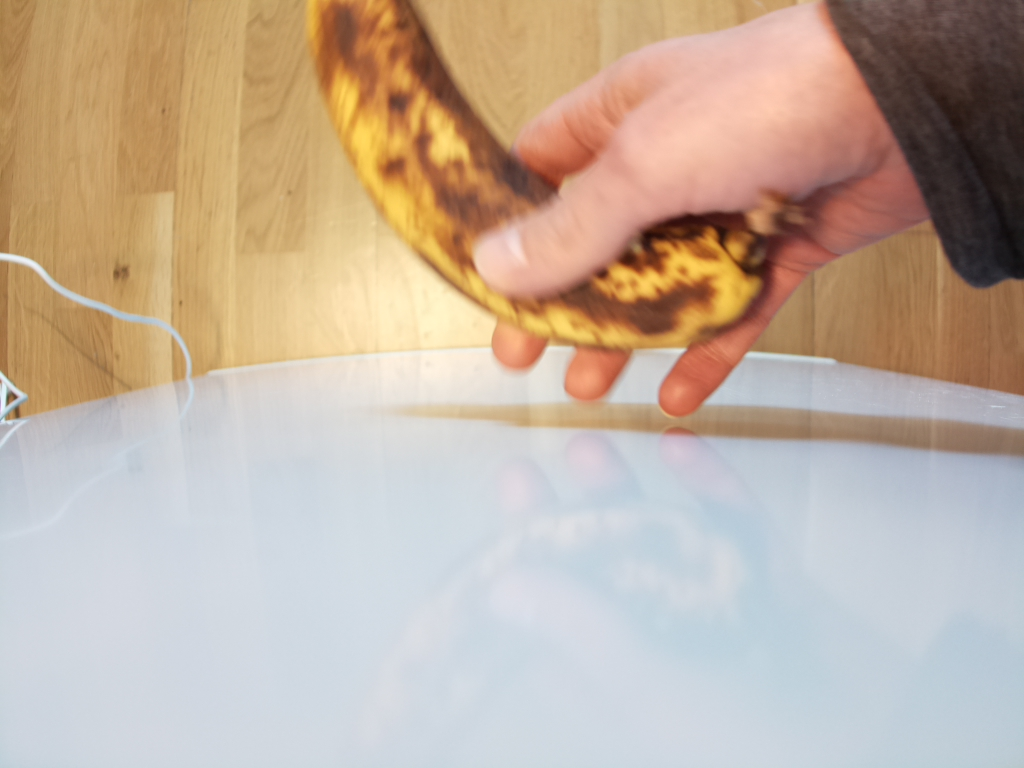banana-overripe: (308, 1, 815, 352)
